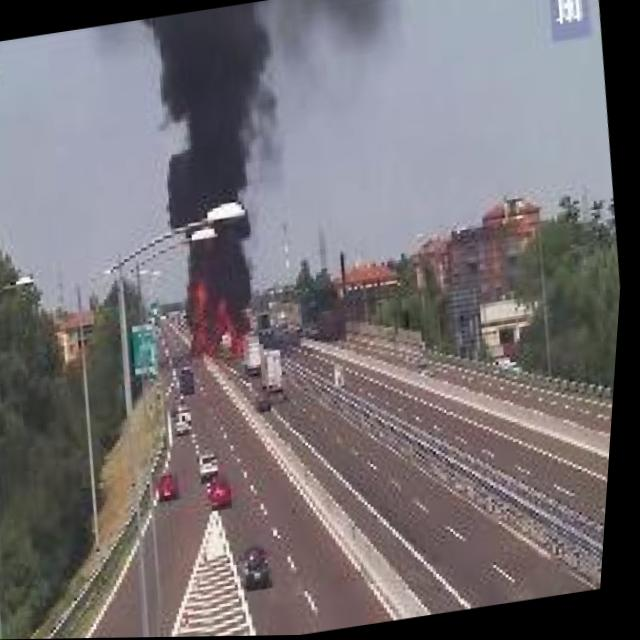fire: (182, 268, 260, 373)
